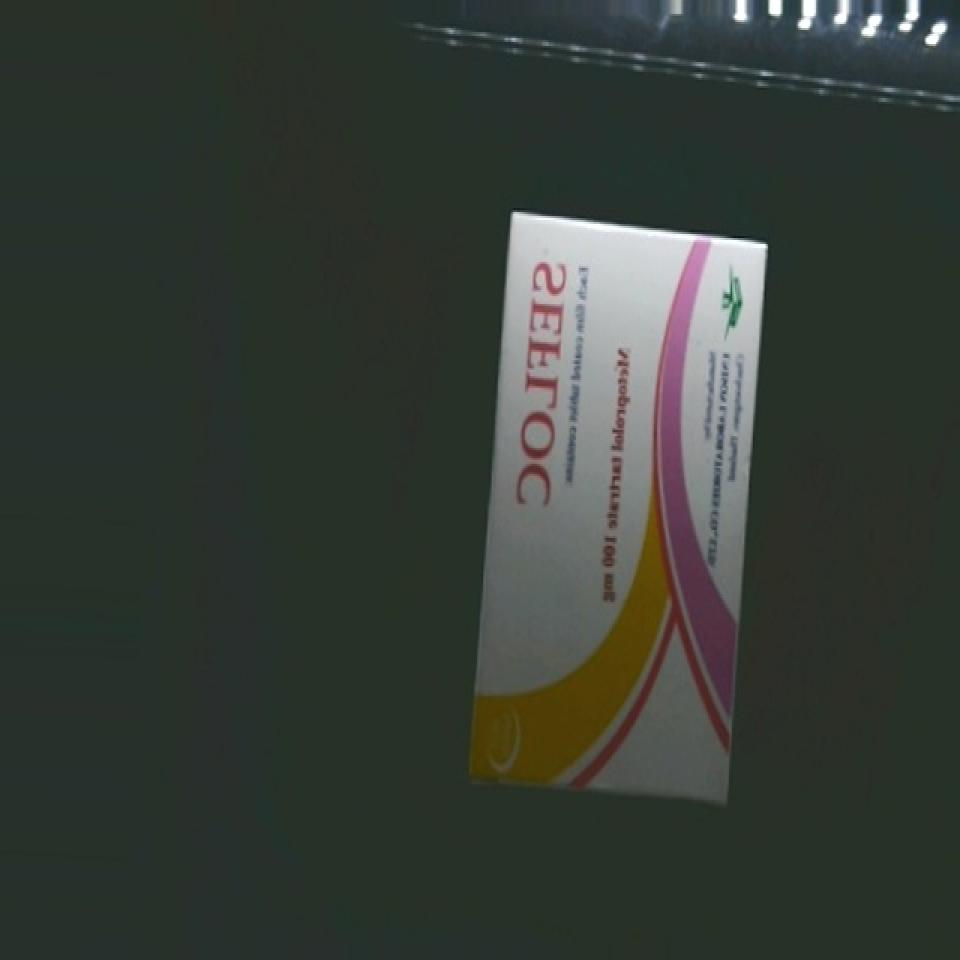sefloc: (467, 213, 763, 800)
